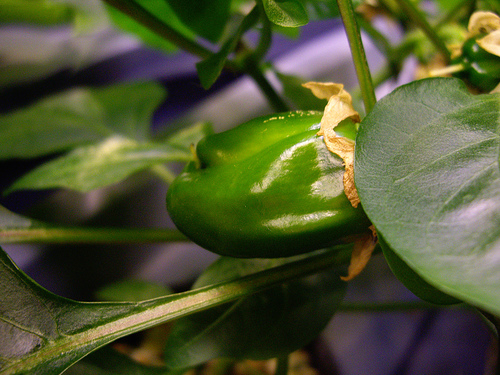capsicum: (166, 109, 375, 255), (448, 29, 499, 93)
